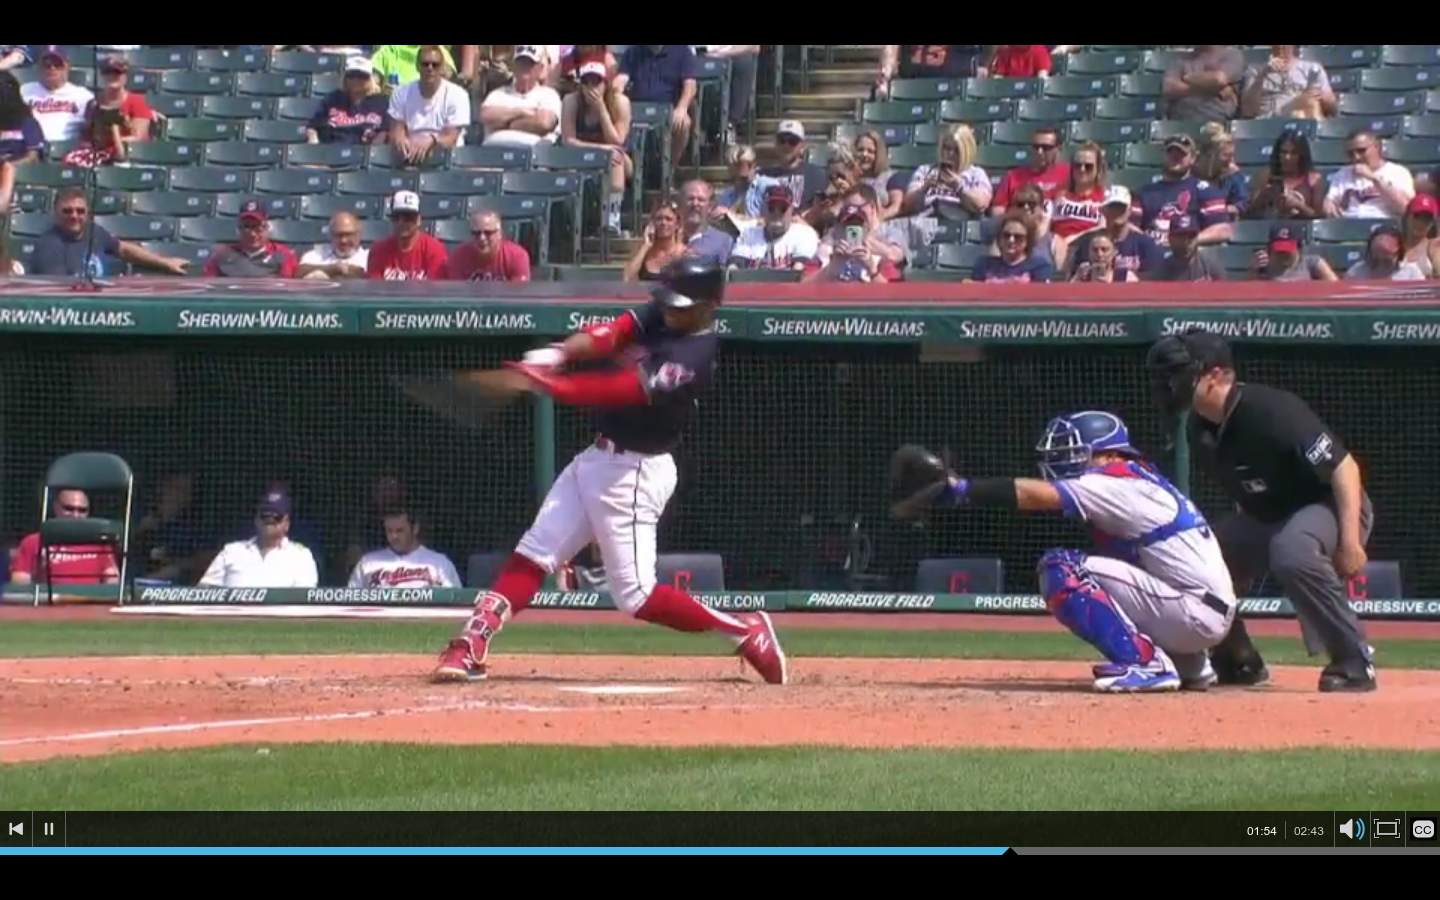baseball player: (421, 246, 787, 685), (876, 405, 1242, 702)
referee: (1128, 329, 1387, 699)
